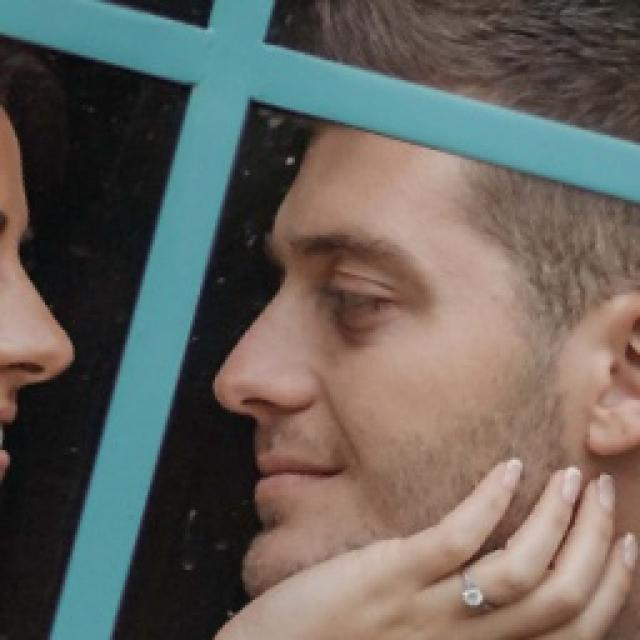no-glasses: (268, 264, 443, 352)
